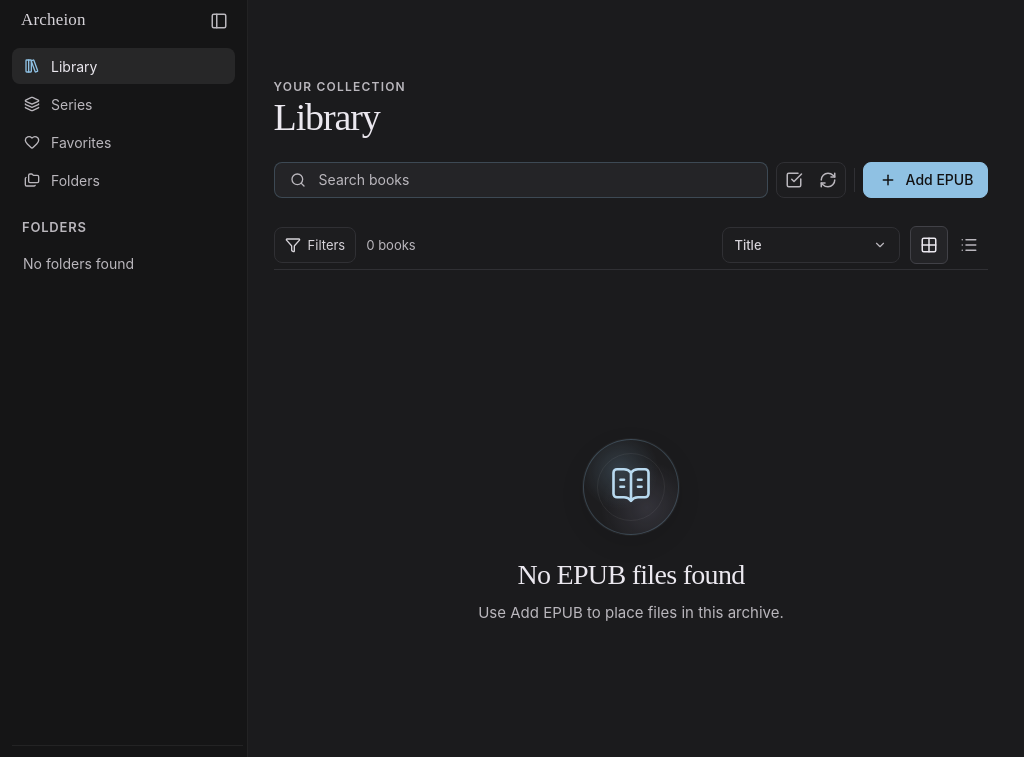
Test: LibraryPage navigation and archive loading › enters main content for explicit navigation without moving focus on background refresh
The image size is (1024, 757).
Step 1. Click the button with aria-label "Folders" → point(124, 180), box x1=12 y1=162 x2=235 y2=198
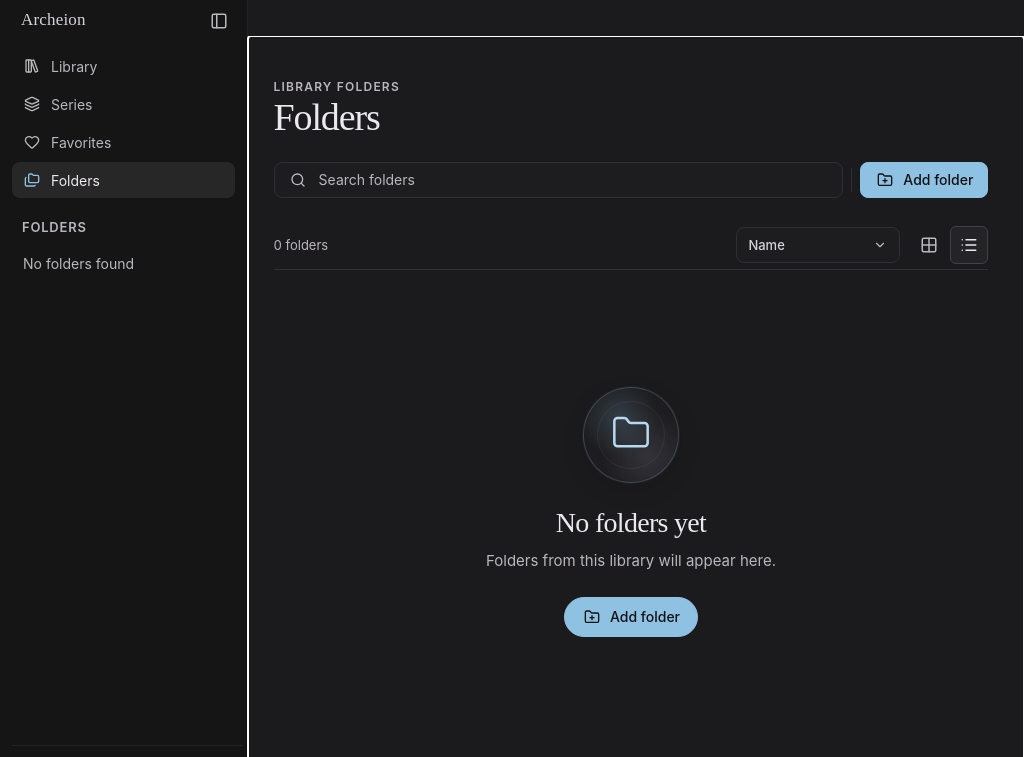
expect the heading "Folders" is shown: met, box x1=274 y1=96 x2=380 y2=138
